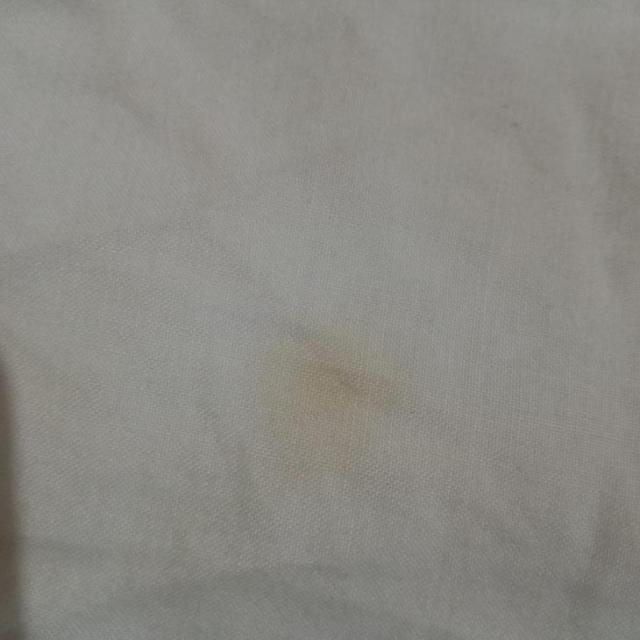stain: (244, 312, 407, 475)
